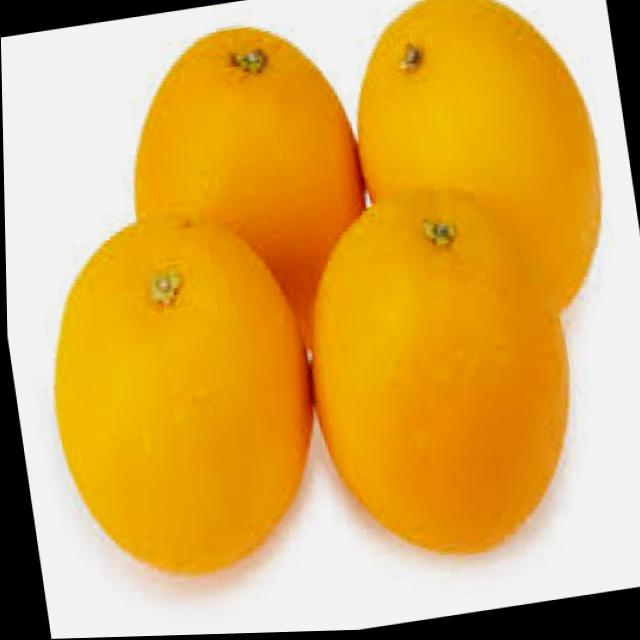orange: (23, 193, 336, 607), (289, 174, 590, 577), (339, 0, 620, 343), (113, 13, 381, 369)
